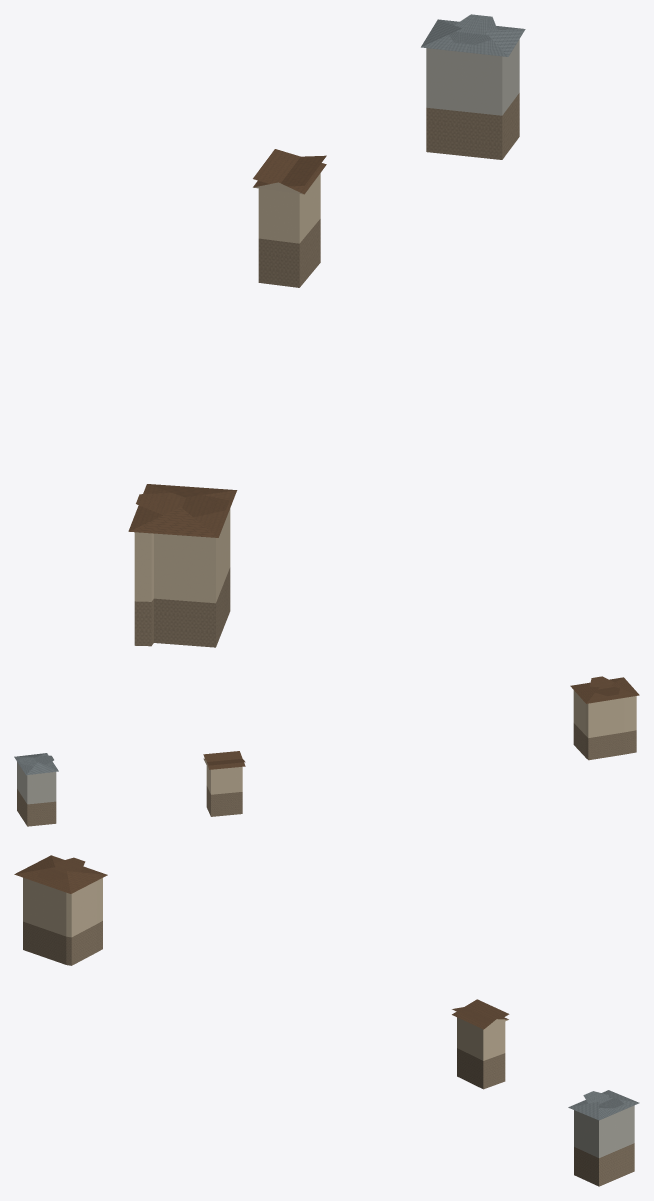
Rendered from bld_c14_36_409.gltf.
3 views of the same model, one above another, from view 1: azimuth 30°, elevation 25°; view 2: azimuth 150°, elevation 25°; view 3: azimuth 270°, elevation 25° (orthographic). The views are drawn at different scales.
Visible parts, largest first — view 1: bld_c14_36_409; view 2: bld_c14_36_409; view 3: bld_c14_36_409.
Boxes of the visible parts, <box> form: bld_c14_36_409: <box>128,14,525,647</box>; bld_c14_36_409: <box>14,676,639,826</box>; bld_c14_36_409: <box>14,855,639,1186</box>.
Bounding box in the file's own units: 99.25 × 14.5 × 102.
6 materials, 6 textured.
